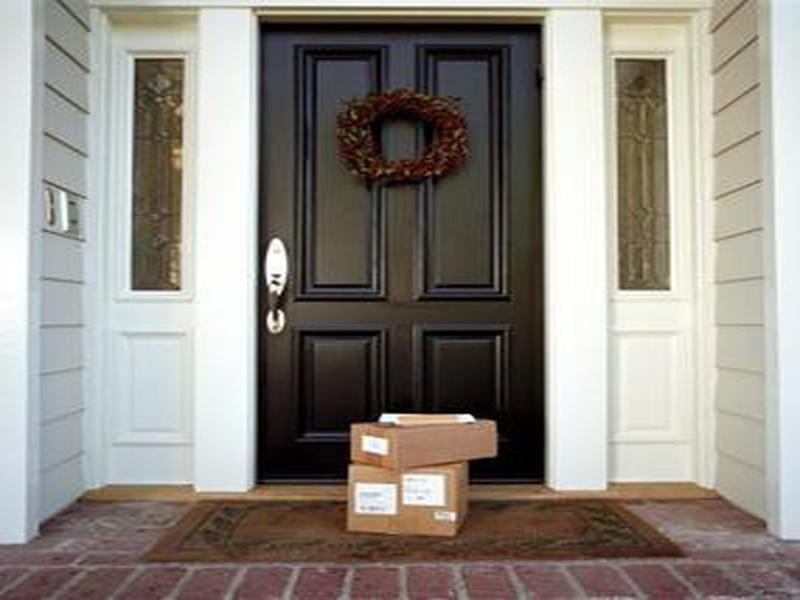package: (338, 462, 476, 542), (345, 421, 501, 472), (372, 408, 480, 427)
